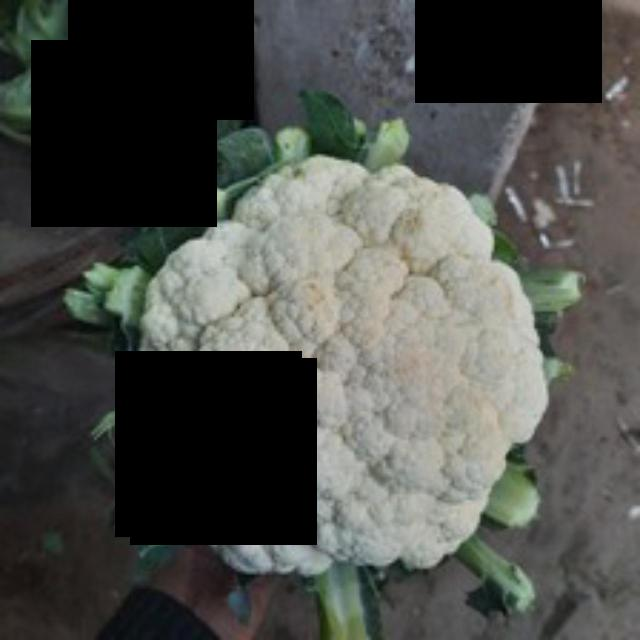cauliflower: (121, 136, 558, 590)
